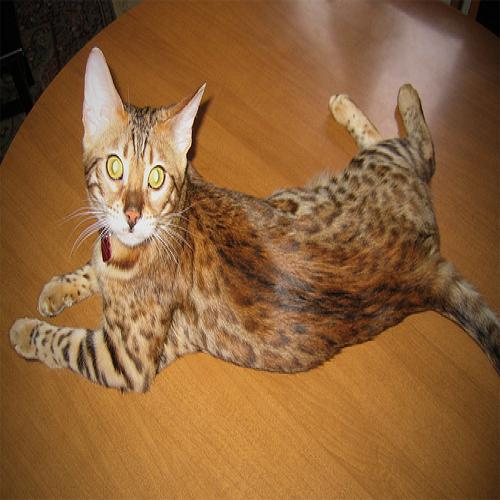bengal: (80, 47, 211, 254)
